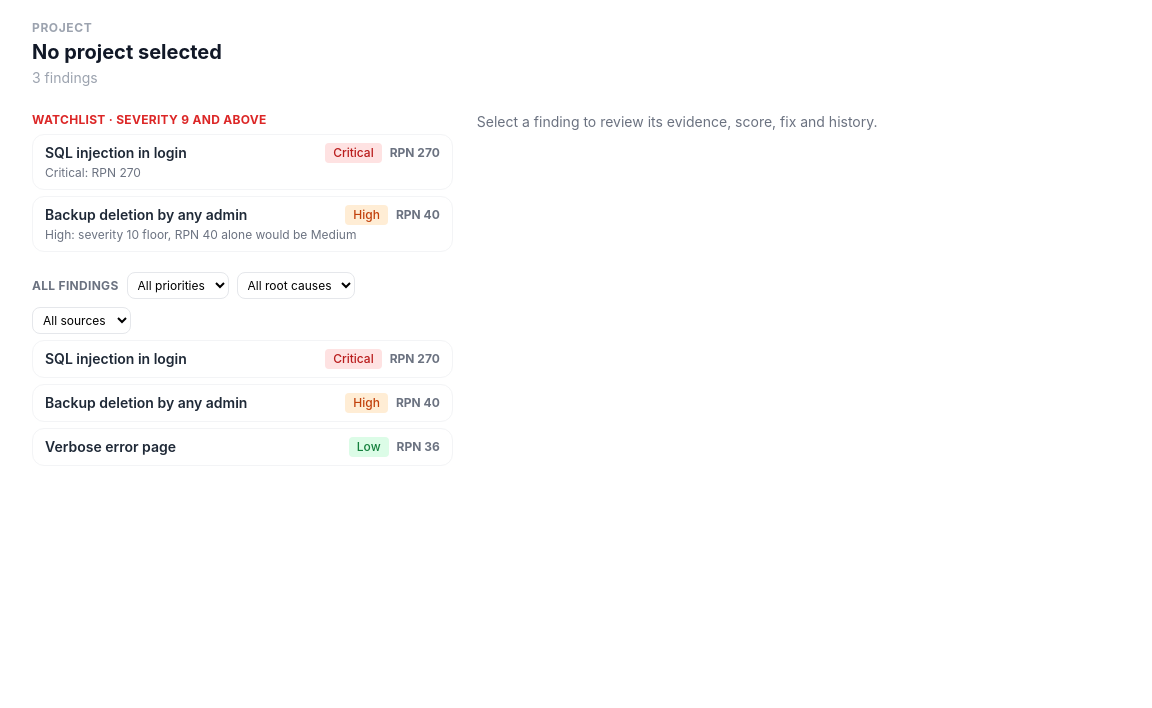
Test: one finding, fully reviewable › shows an error from a failed state change
What coordinates should you click on to do the following:
click the button "Backup deletion by any admin"
I would click on:
 (242, 224)
Its box is [32,196,453,252].
(page scrolled)
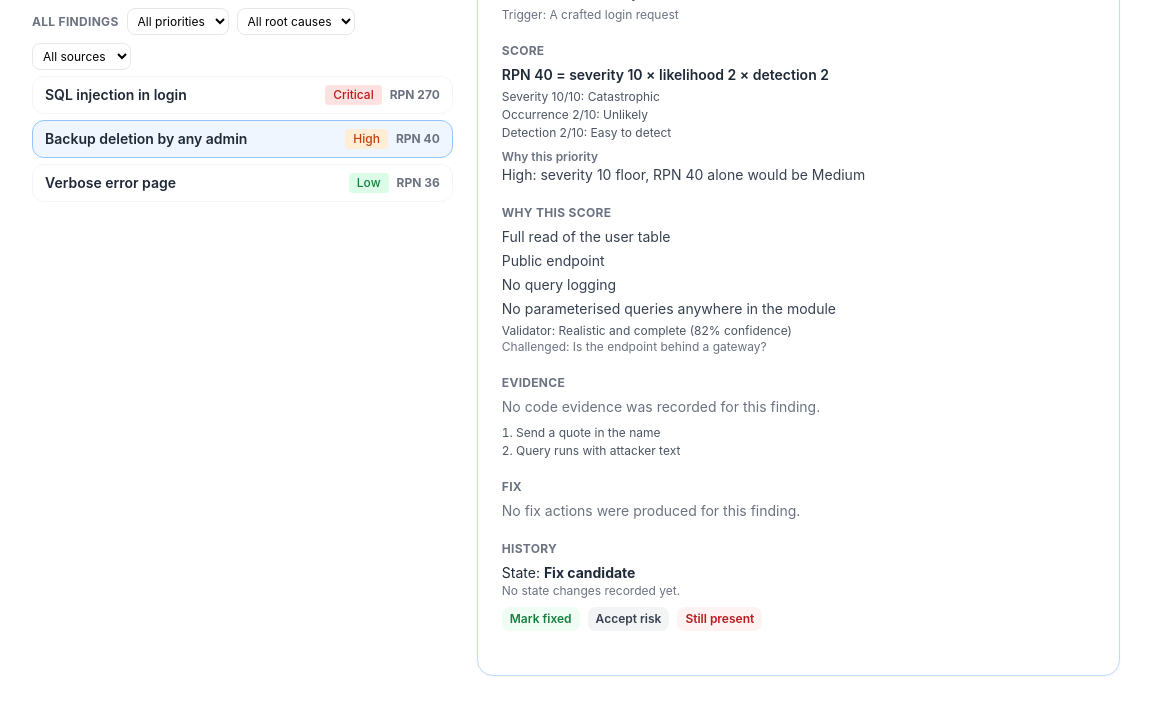
What coordinates should you click on to do the following:
click the button "Accept risk"
I would click on:
 (628, 619)
Its box is [588,607,669,631].
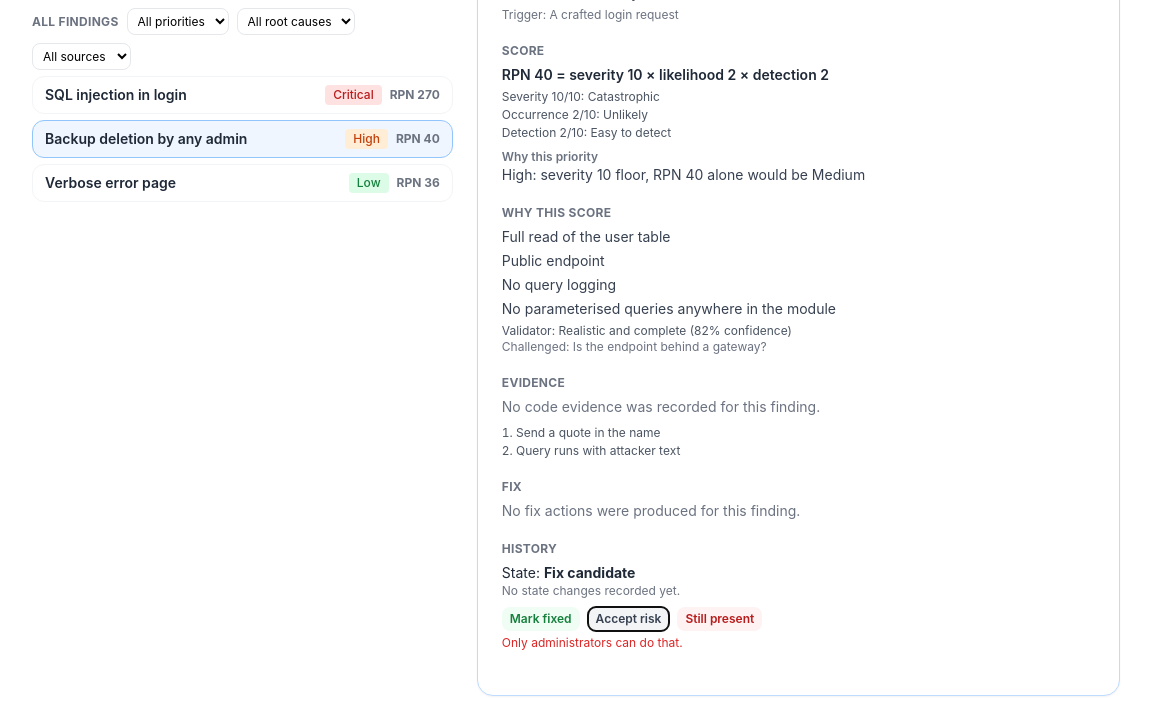
Result: the message reads "Only administrators can do that." at [502,635,683,650]
